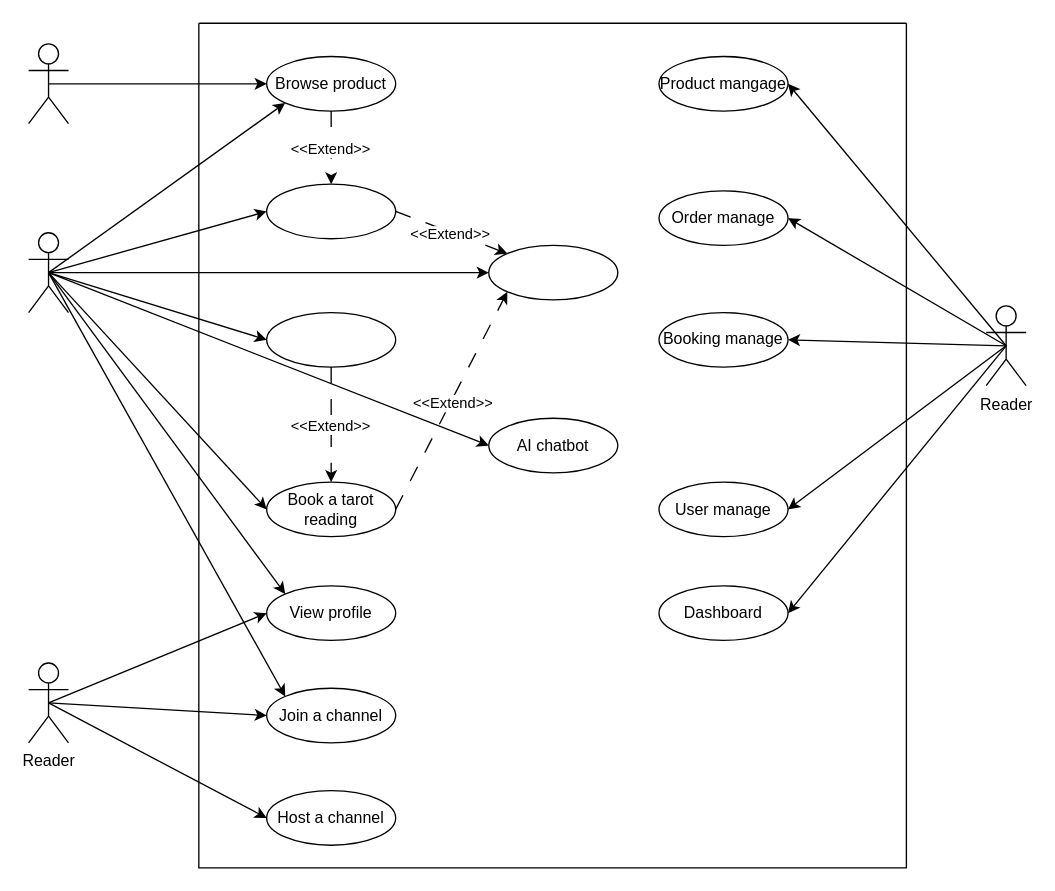
Image size: 1055x891. Some labels were removed from this diagram. The centre of each missing label's shape, as x and y in pixels:
Add to cart: the point at 330,211
Guest: the point at 47,83
Purchase: the point at 552,272
User: the point at 47,272
View reader: the point at 330,339
